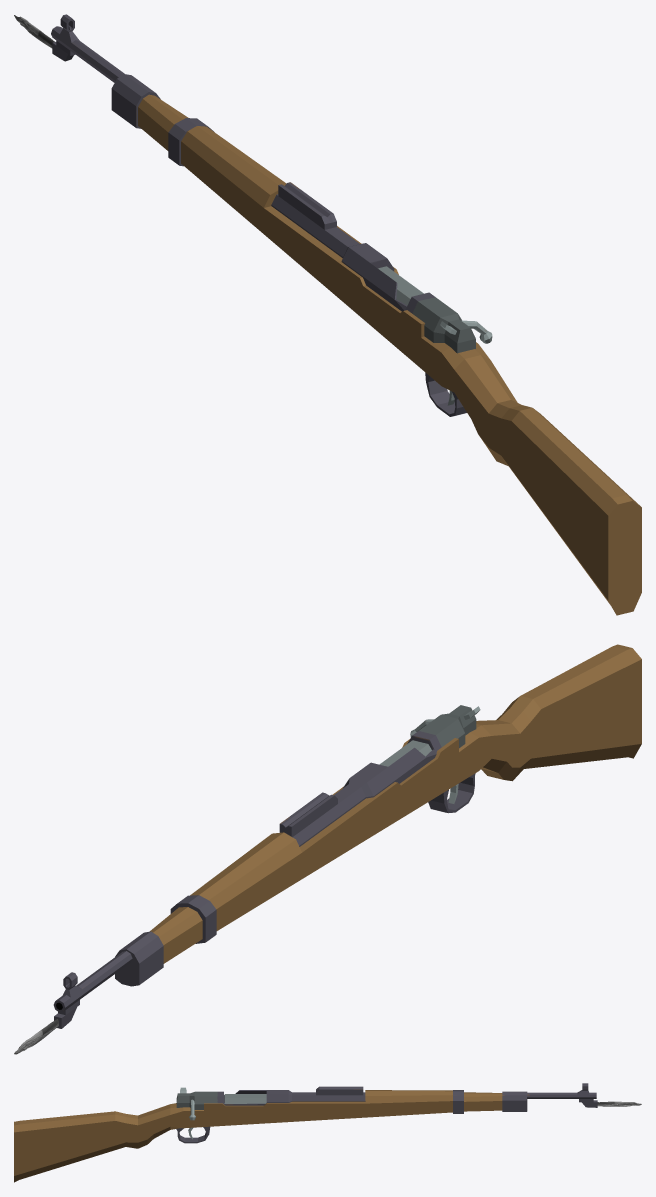
The model's file is Arma.fbx.
3 views of the same model, one above another, from view 1: azimuth 30°, elevation 25°; view 2: azimuth 150°, elevation 25°; view 3: azimuth 270°, elevation 25° (orthographic). The views are drawn at different scales.
Visible parts, largest first — view 1: K98; view 2: K98; view 3: K98, Sphere.
Boxes of the visible parts, x1,y1,x2,y2 form: K98: (51,14,641,615); K98: (53,644,641,1028); K98: (14,1083,597,1182); Sphere: (597,1101,641,1106).
Bounding box in the file's own units: 54.47 × 166 × 976.
